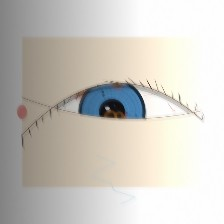foreign_body_visible: (107, 106, 132, 126)
